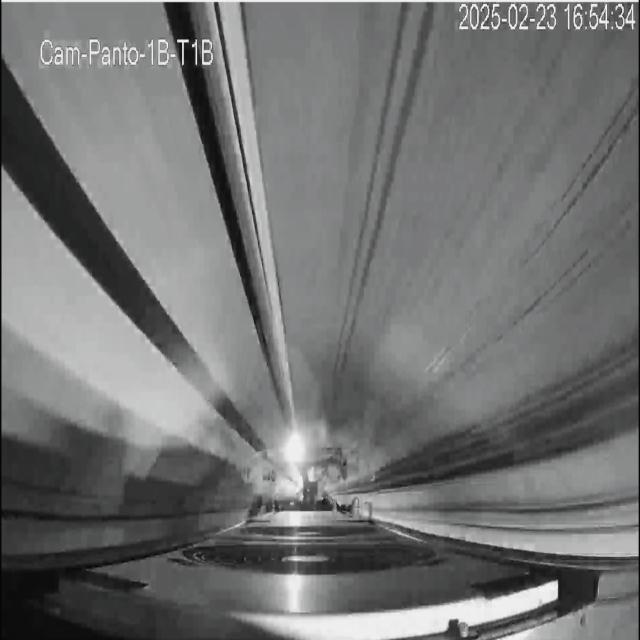Camera Stamp: (43, 32, 218, 69)
Date Stamp: (458, 3, 636, 33)
Sparks: (281, 425, 309, 471)
